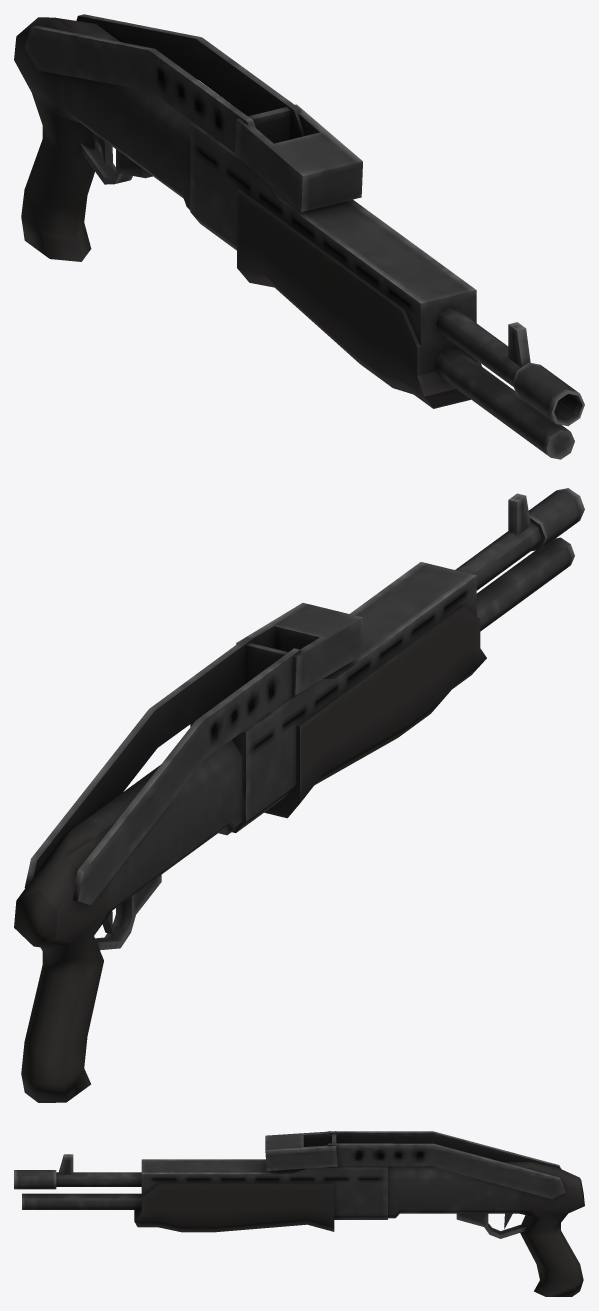
The model's file is Spas12.fbx.
3 views of the same model, one above another, from view 1: azimuth 30°, elevation 25°; view 2: azimuth 150°, elevation 25°; view 3: azimuth 270°, elevation 25° (orthographic). The views are drawn at different scales.
Visible parts, largest first — view 1: Spas12; view 2: Spas12; view 3: Spas12.
Part boxes in pixels (bbox=[...]): Spas12: bbox=[14, 14, 584, 459]; Spas12: bbox=[14, 488, 584, 1102]; Spas12: bbox=[14, 1131, 584, 1296].
Bounding box in the file's own units: 5.14 × 22.42 × 75.64.
